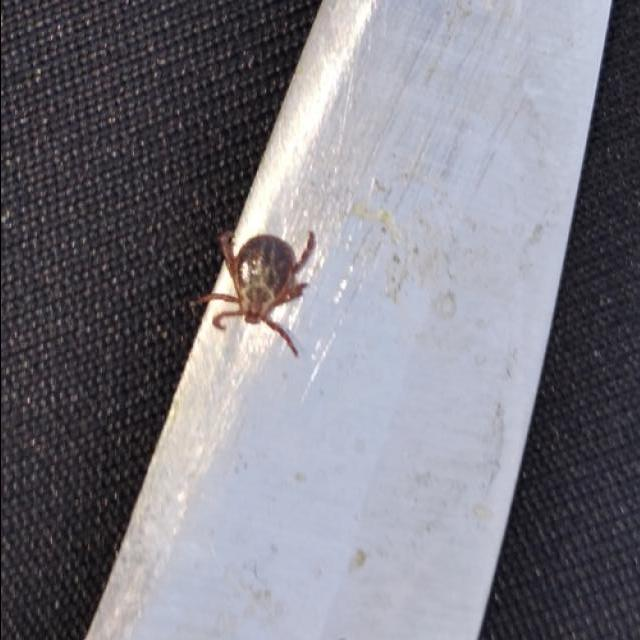Dermacentor Reticulatus-M: (195, 230, 314, 358)
